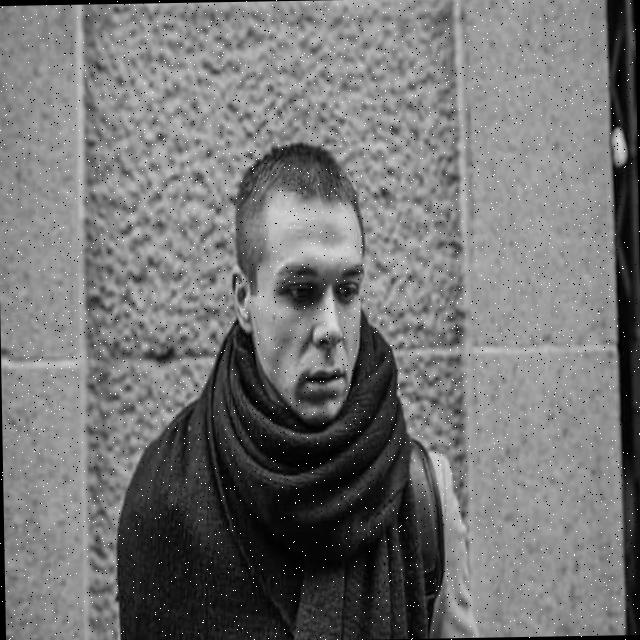Sadness: (264, 191, 366, 424)
